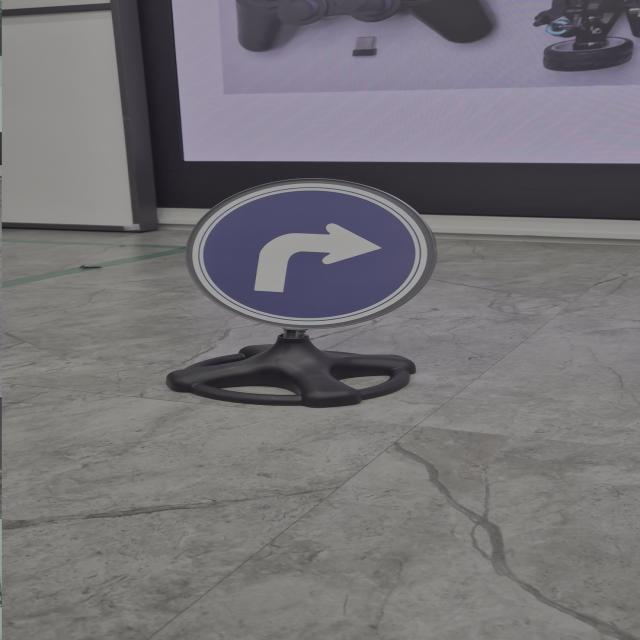right_dierection: (161, 165, 452, 353)
